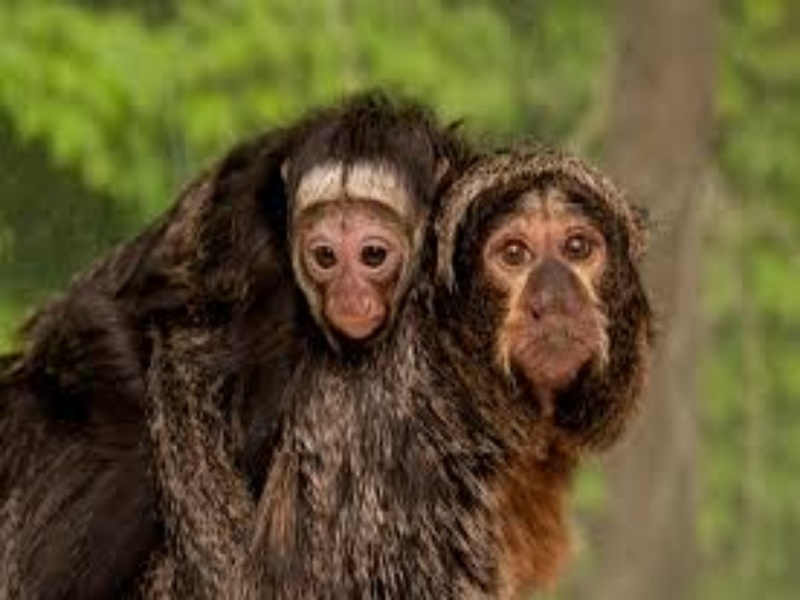monkey: (1, 82, 428, 521), (438, 116, 661, 519)
